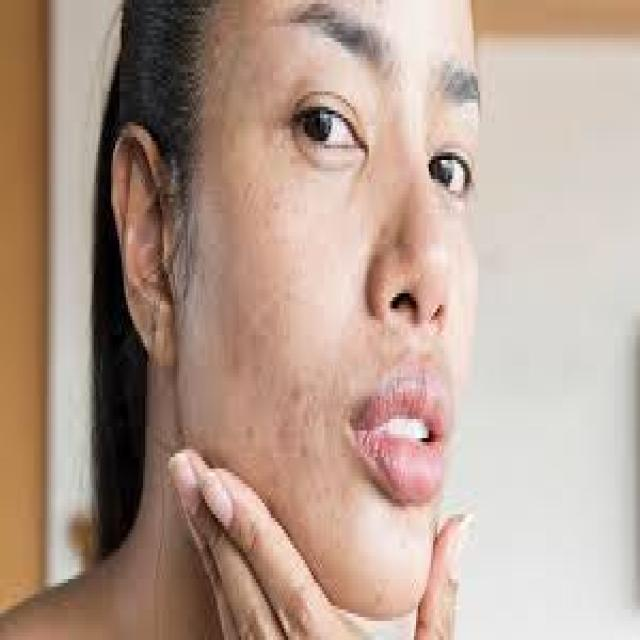Acne: (218, 184, 329, 496)
Dry-Skin: (219, 54, 461, 599)
